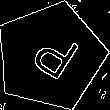P_SW: (21, 25, 80, 87)
